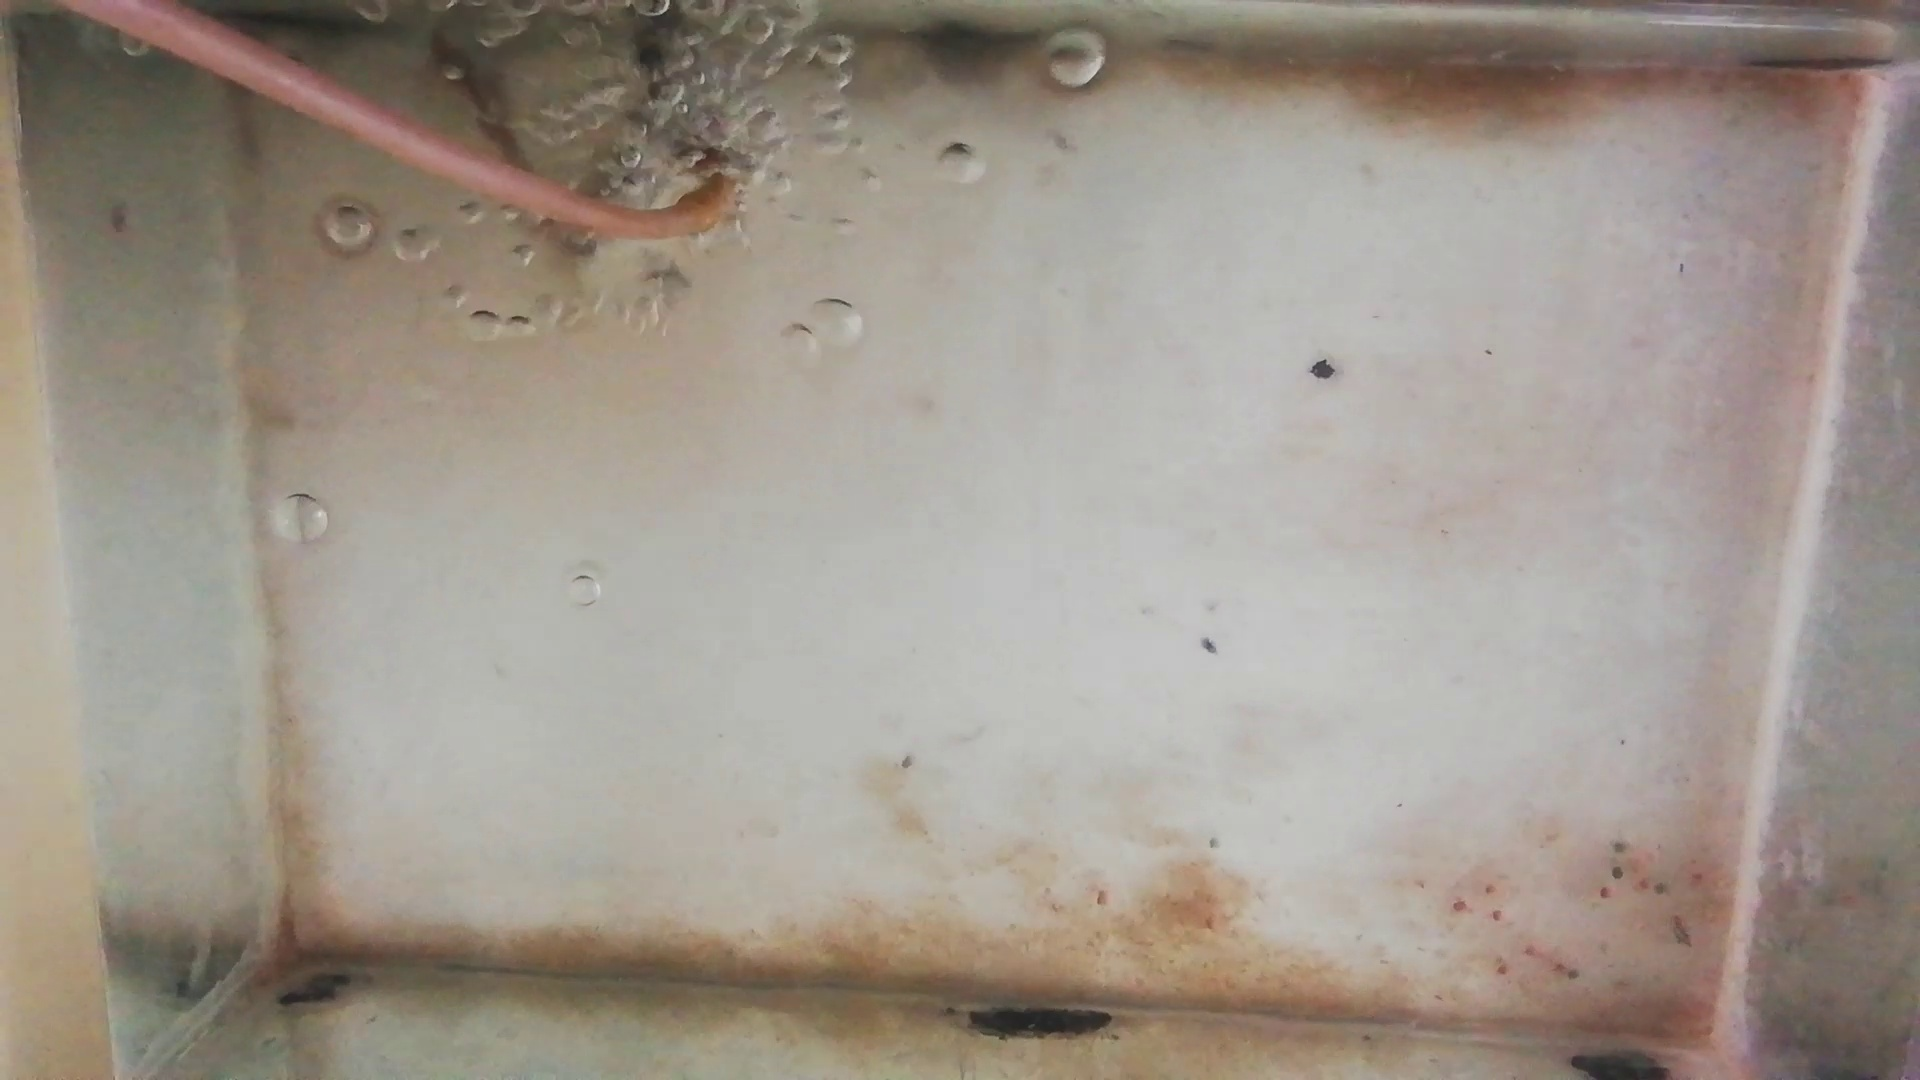fish: (426, 17, 531, 166), (609, 18, 676, 173)
